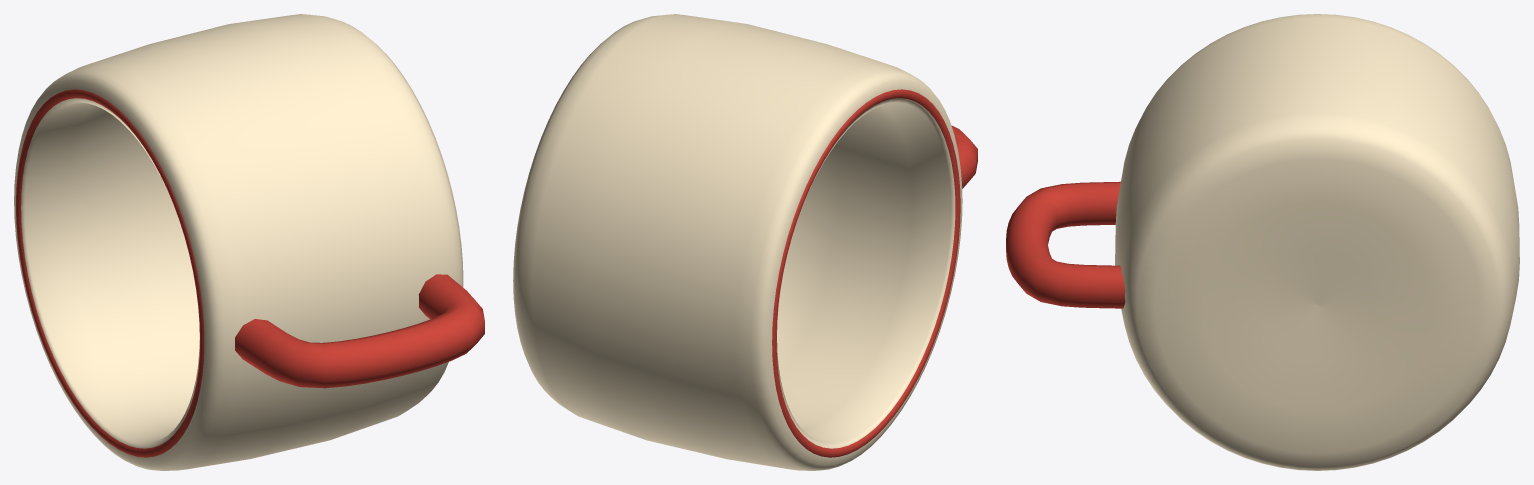
The model's file is mug.glb.
3 renders of one model, left to right at view 1: azimuth 30°, elevation 25°; view 2: azimuth 150°, elevation 25°; view 3: azimuth 270°, elevation 25°, orthographic. The views are drawn at different scales.
Parts seen in each view (by area): view 1: ivory, red; view 2: ivory, red; view 3: ivory, red.
Boxes of the visible parts, x1,y1,x2,y2 form: ivory: (14, 14, 463, 470); red: (16, 89, 484, 457); ivory: (513, 14, 962, 470); red: (772, 89, 977, 457); ivory: (1115, 14, 1519, 470); red: (1006, 181, 1125, 308).
Size of the model in its own units: 0.3735 by 0.5186 by 0.6582.
